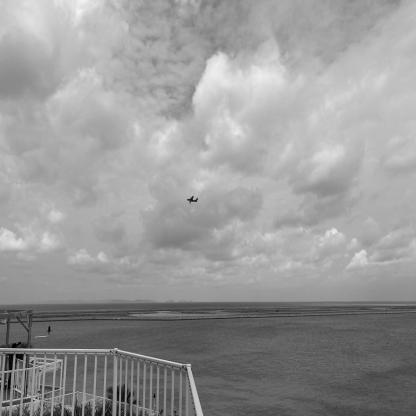US2: (188, 197, 200, 206)
